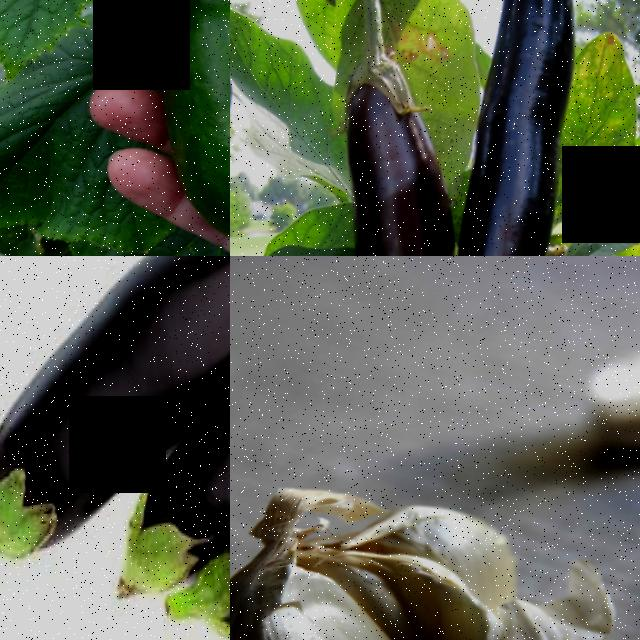cucumber: (151, 0, 230, 250)
eggplant: (425, 0, 611, 256), (0, 256, 230, 457), (326, 46, 489, 256)
garlic: (230, 466, 562, 640)
